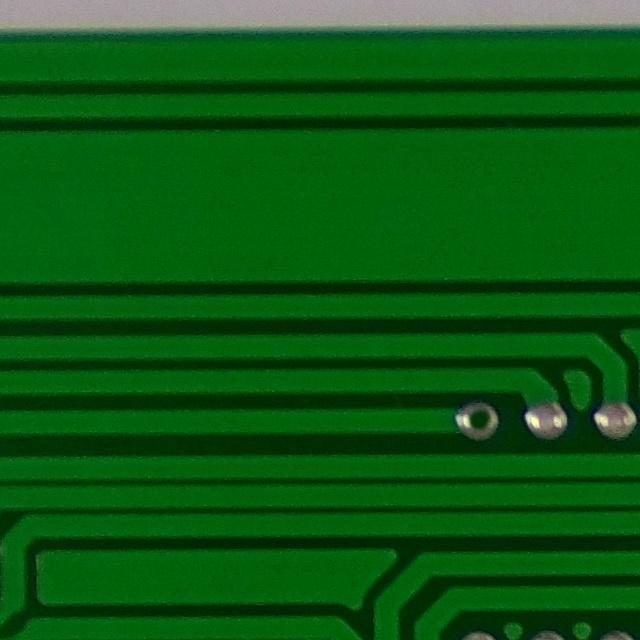missing_hole: (448, 395, 508, 446)
